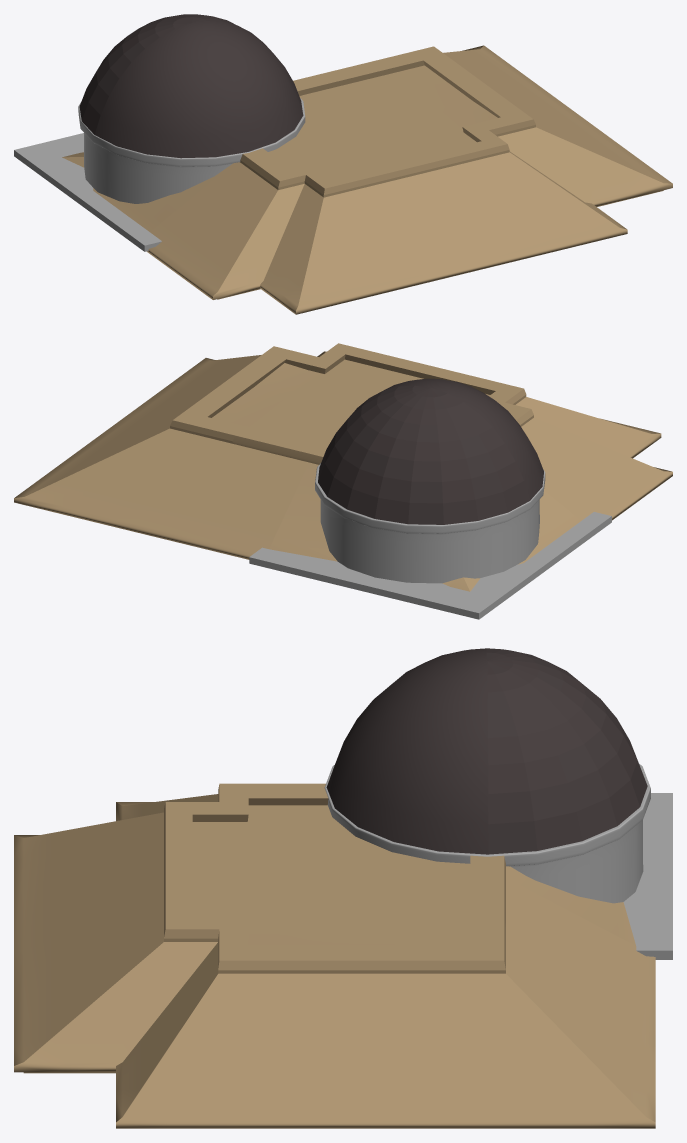
The model's file is Dome_InsideWithRoof3.fbx.
The picture shows the model from 3 angles, top to bottom: view 1: azimuth 30°, elevation 25°; view 2: azimuth 150°, elevation 25°; view 3: azimuth 270°, elevation 25°; orthographic projection. The views are drawn at different scales.
Parts seen in each view (by area): view 1: MansionRoof, Dome_Closed1, Dome_Base, Dome_Inside_Roof, Dome_Closed; view 2: MansionRoof, Dome_Closed, Dome_Base, Dome_Inside_Roof, Dome_Closed1; view 3: MansionRoof, Dome_Closed1, Dome_Closed, Dome_Base, Dome_Inside_Roof.
Boxes of the visible parts, bbox=[...] form: MansionRoof: bbox=[62, 45, 672, 314]; Dome_Closed1: bbox=[94, 20, 303, 158]; Dome_Base: bbox=[78, 98, 305, 203]; Dome_Inside_Roof: bbox=[14, 133, 161, 251]; Dome_Closed: bbox=[79, 14, 235, 134]; MansionRoof: bbox=[14, 343, 672, 591]; Dome_Closed: bbox=[318, 385, 530, 524]; Dome_Base: bbox=[315, 463, 545, 583]; Dome_Inside_Roof: bbox=[249, 512, 611, 619]; Dome_Closed1: bbox=[356, 378, 543, 500]; MansionRoof: bbox=[14, 783, 655, 1128]; Dome_Closed1: bbox=[326, 648, 488, 854]; Dome_Closed: bbox=[486, 648, 647, 854]; Dome_Base: bbox=[324, 763, 650, 903]; Dome_Inside_Roof: bbox=[623, 793, 672, 959].
Bounding box in the file's own units: 291 × 97.82 × 251.
